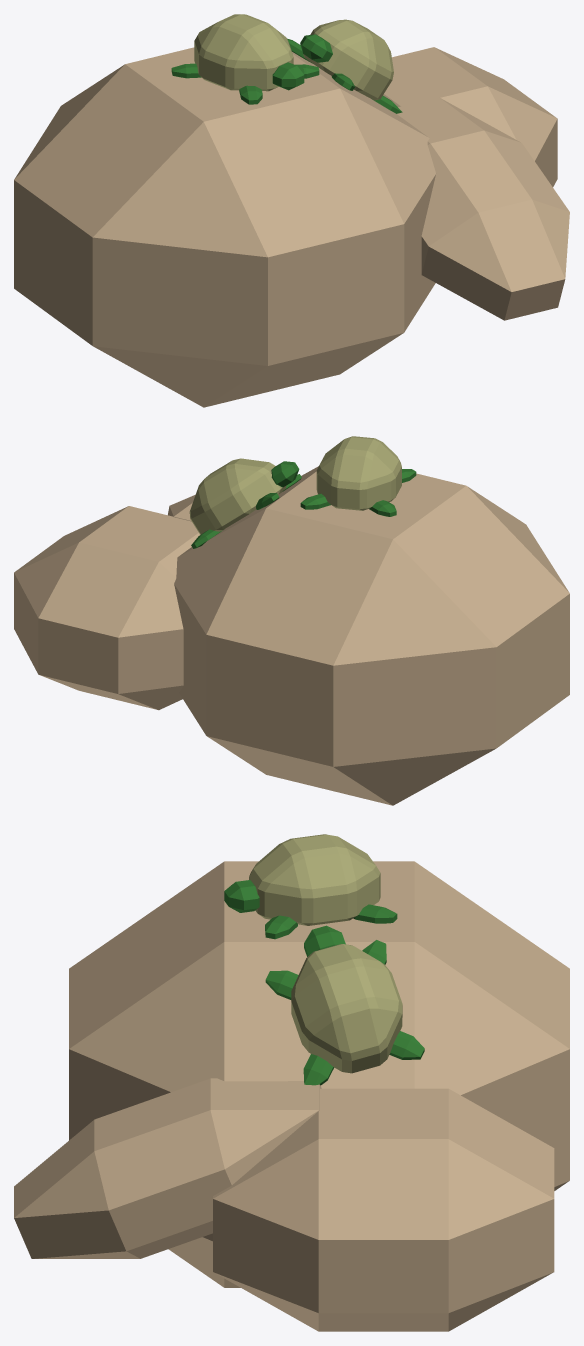
The model's file is turtles.gltf.
3 views of the same model, one above another, from view 1: azimuth 30°, elevation 25°; view 2: azimuth 150°, elevation 25°; view 3: azimuth 270°, elevation 25° (orthographic). The views are drawn at different scales.
Visible parts, largest first — view 1: Cube.001, Cube.002, Cube.003, Cube.006, Cube.012, Cube.007, Cube.009, Cube.010, Cube.011; view 2: Cube.001, Cube.003, Cube.006, Cube.012, Cube.007, Cube.011, Cube.010; view 3: Cube.001, Cube.003, Cube.002, Cube.012, Cube.006, Cube.011, Cube.007, Cube.009, Cube.010.
Boxes of the visible parts, <box> form: Cube.001: <box>14,47,435,407</box>; Cube.002: <box>397,97,569,320</box>; Cube.003: <box>383,47,557,186</box>; Cube.006: <box>194,14,293,91</box>; Cube.012: <box>303,19,393,100</box>; Cube.007: <box>171,63,319,104</box>; Cube.009: <box>272,62,304,90</box>; Cube.010: <box>300,34,332,62</box>; Cube.011: <box>287,38,402,113</box>; Cube.001: <box>174,466,569,805</box>; Cube.003: <box>14,506,199,710</box>; Cube.006: <box>316,436,401,510</box>; Cube.012: <box>189,458,286,534</box>; Cube.007: <box>300,469,416,516</box>; Cube.011: <box>191,474,301,548</box>; Cube.010: <box>271,461,299,487</box>; Cube.001: <box>69,861,569,1287</box>; Cube.003: <box>213,1088,554,1331</box>; Cube.002: <box>14,1078,321,1258</box>; Cube.012: <box>291,944,402,1073</box>; Cube.006: <box>249,834,380,925</box>; Cube.011: <box>265,940,424,1085</box>; Cube.007: <box>265,904,397,939</box>; Cube.009: <box>224,880,259,912</box>; Cube.010: <box>304,925,345,956</box>.
Bounding box in the file's own units: 2.81 × 1.81 × 2.22.
